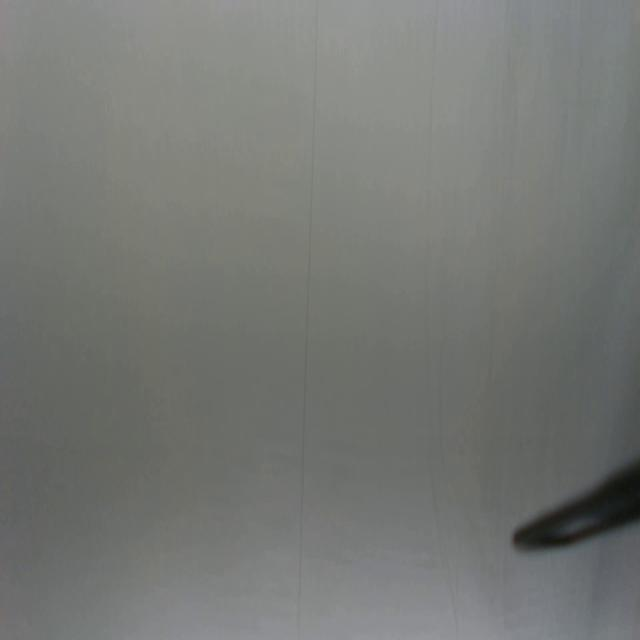crease: (298, 2, 320, 636)
